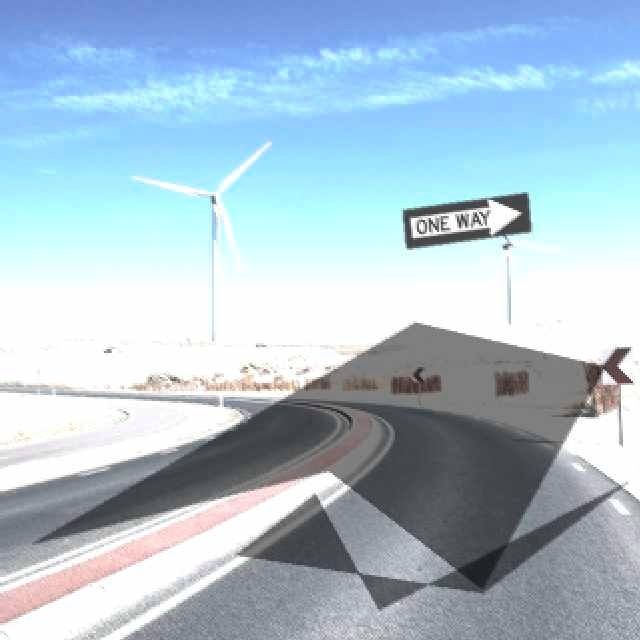ONE_WAY_ right: (400, 191, 530, 249)
